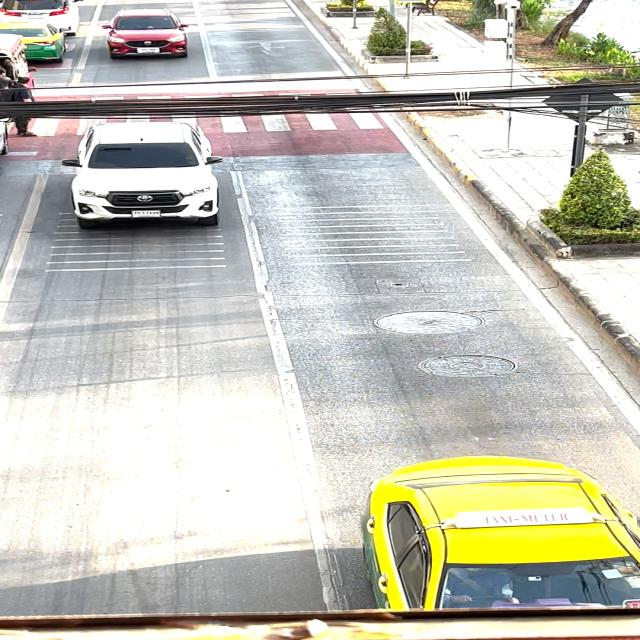car: (338, 432, 640, 607), (54, 119, 250, 234), (108, 7, 186, 59)
